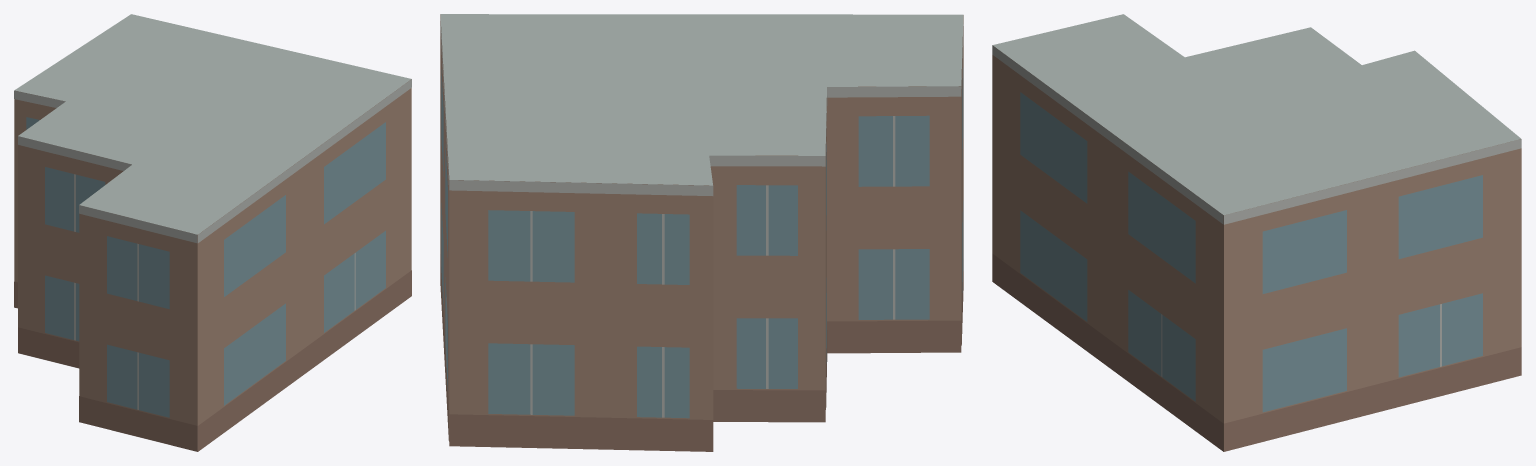
The model's file is survey-upis-32478750.glb.
The picture shows the model from 3 angles, left to right: view 1: azimuth 30°, elevation 25°; view 2: azimuth 150°, elevation 25°; view 3: azimuth 270°, elevation 25°; orthographic projection. The views are drawn at different scales.
Visible parts, largest first — view 1: survey-upis-32478750.tmp; view 2: survey-upis-32478750.tmp; view 3: survey-upis-32478750.tmp.
Boxes of the visible parts, left/top/right/bottom form: survey-upis-32478750.tmp: left=14, top=14, right=411, bottom=451; survey-upis-32478750.tmp: left=440, top=14, right=963, bottom=451; survey-upis-32478750.tmp: left=992, top=14, right=1521, bottom=451.
Bounding box in the file's own units: 11.14 × 6.1 × 12.38.
